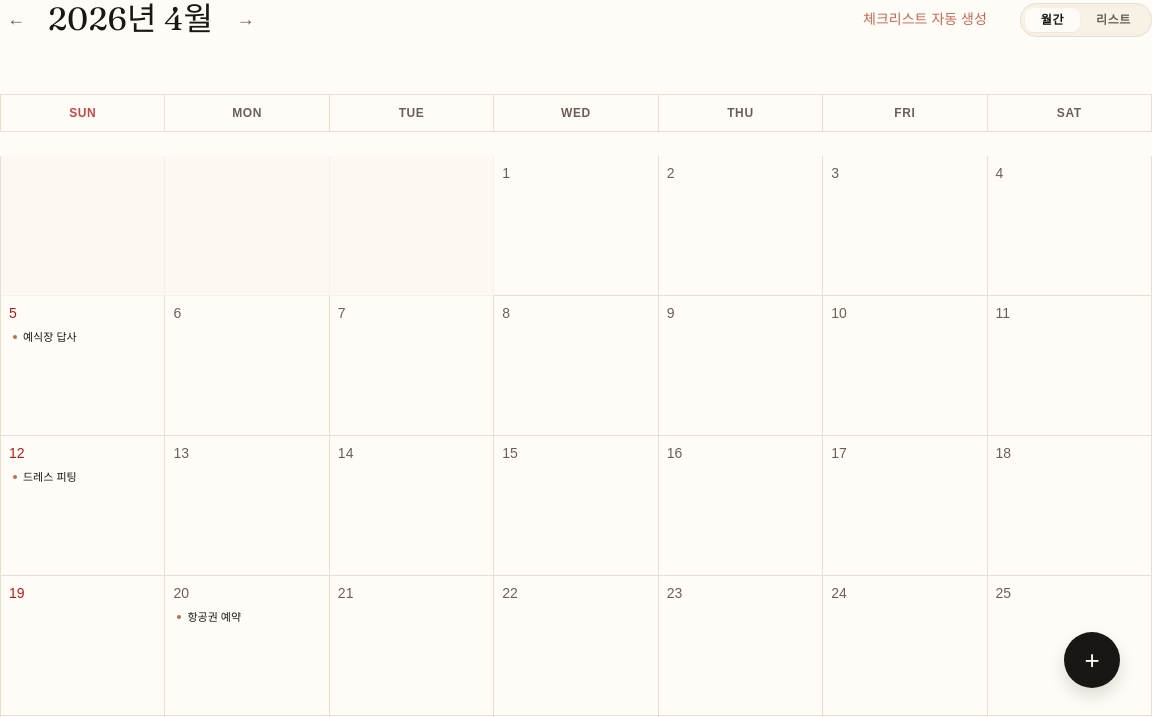
Test: Calendar › 일정 있을 때 AI 버튼 클릭 시 확인 모달이 열린다
What coordinates should you click on to do the following:
click the button "체크리스트 자동 생성"
I would click on:
 (925, 20)
Its box is [846,1,1004,38].
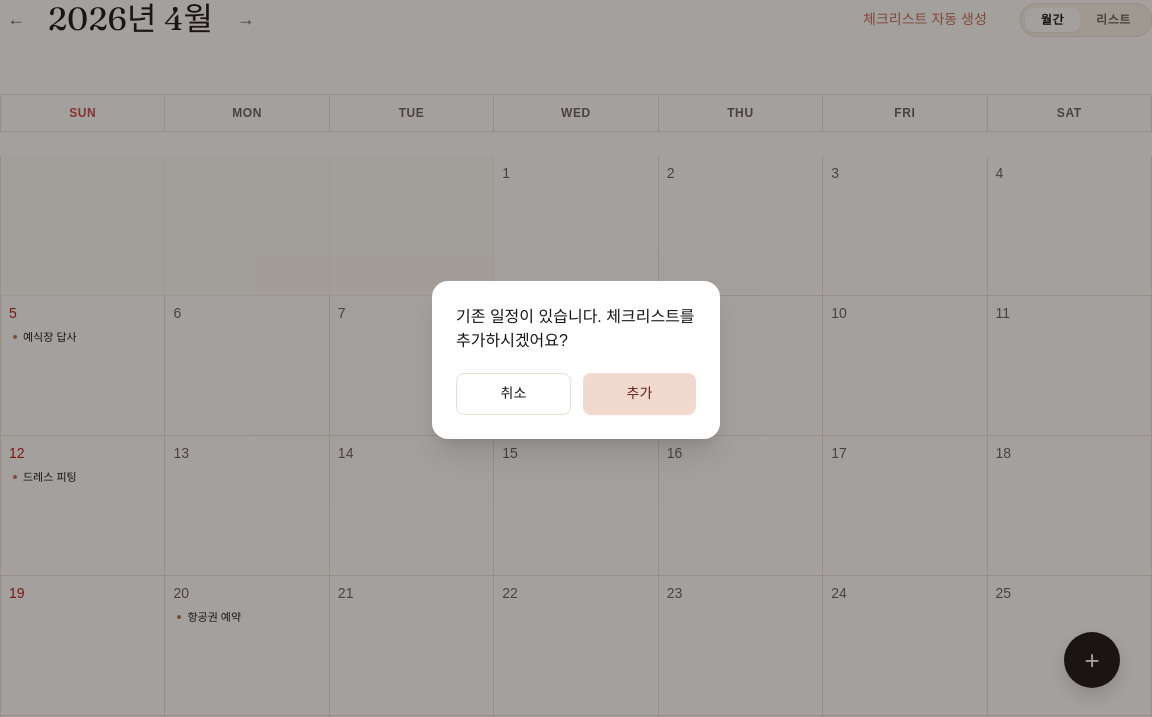
Expected: the text "기존 일정이 있습니다. 체크리스트를 추가하시겠어요?" is shown, [456,305,696,353]
